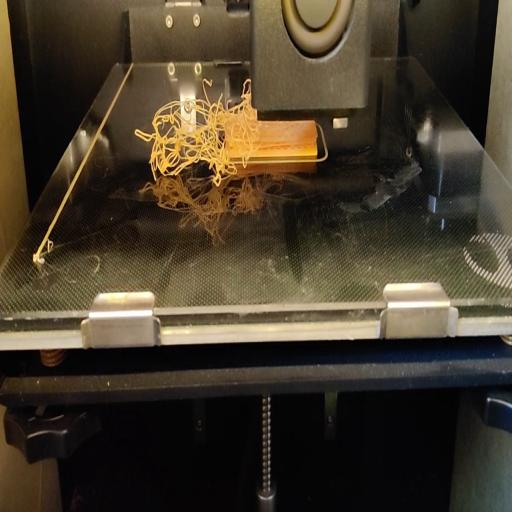spaghetti: (134, 77, 252, 193)
